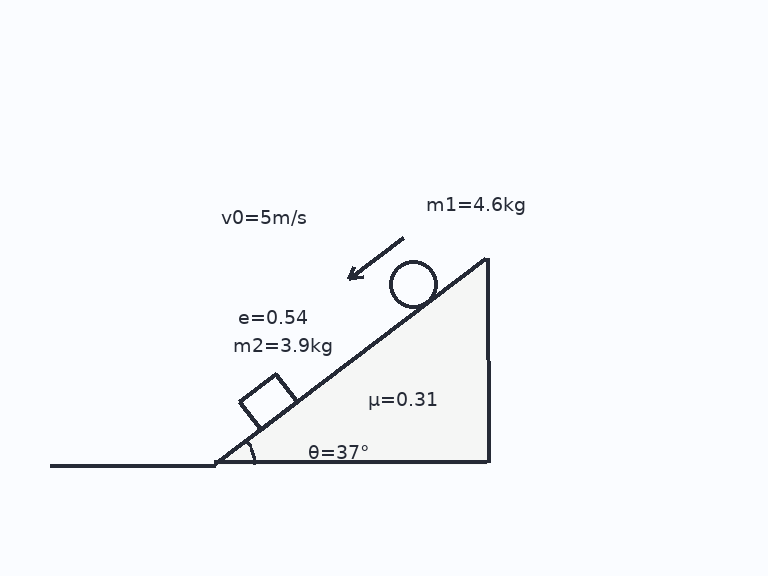ball: (387, 258, 439, 310)
block: (237, 372, 299, 431)
ramp: (212, 256, 489, 466)
